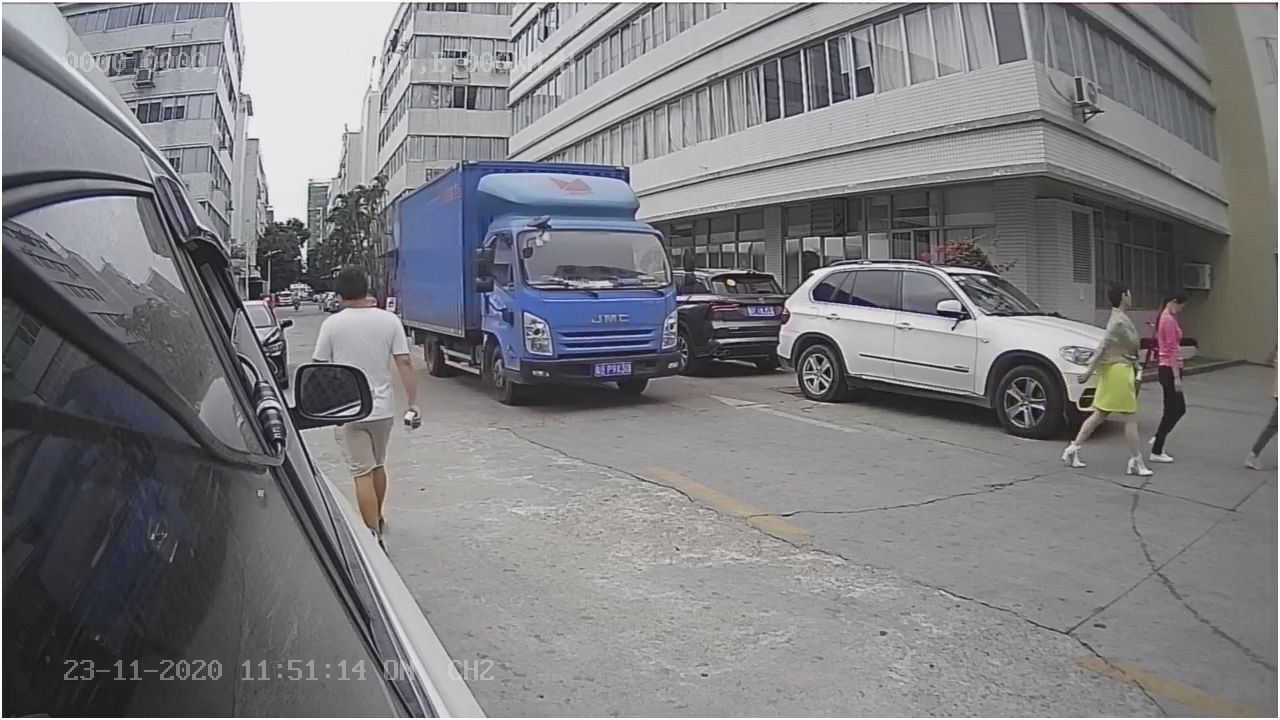person: (1059, 267, 1159, 479), (309, 262, 410, 363)
